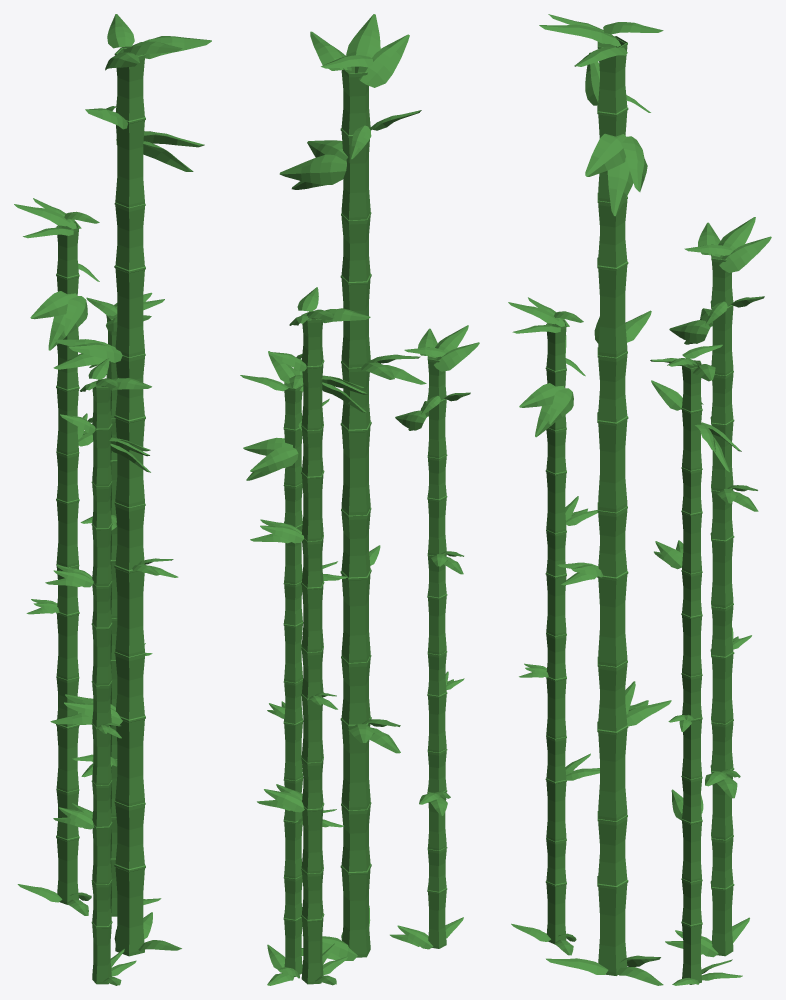
The model's file is bamboozle02.fbx.
3 views of the same model, side by side, from view 1: azimuth 30°, elevation 25°; view 2: azimuth 150°, elevation 25°; view 3: azimuth 270°, elevation 25° (orthographic). The views are drawn at different scales.
Visible parts, largest first — view 1: pPlane163; view 2: pPlane163; view 3: pPlane163.
Part boxes in pixels (box(x1,y1,x2,y2)): pPlane163: box(14, 14, 211, 985); pPlane163: box(240, 14, 479, 985); pPlane163: box(508, 14, 771, 985).
Bounding box in the file's own units: 3.07 × 16.23 × 4.07.
